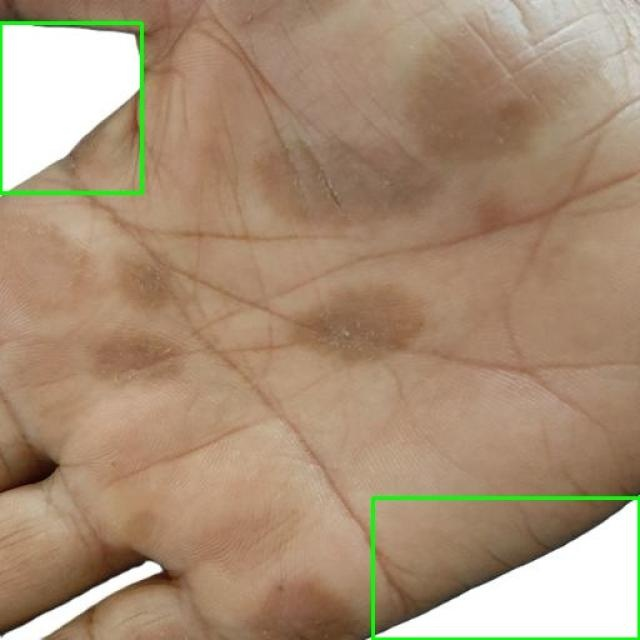Contact Dermatitis: (372, 498, 639, 639), (0, 22, 141, 192)
